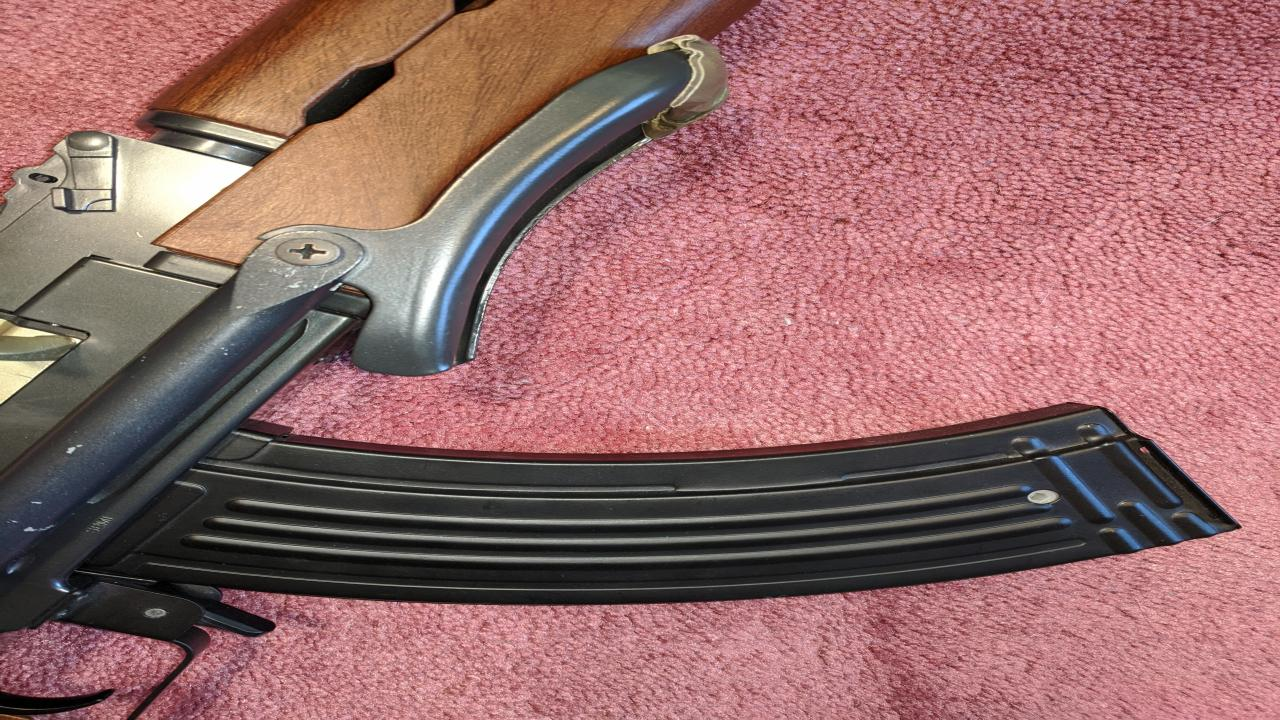CRS: (269, 239, 344, 267)
